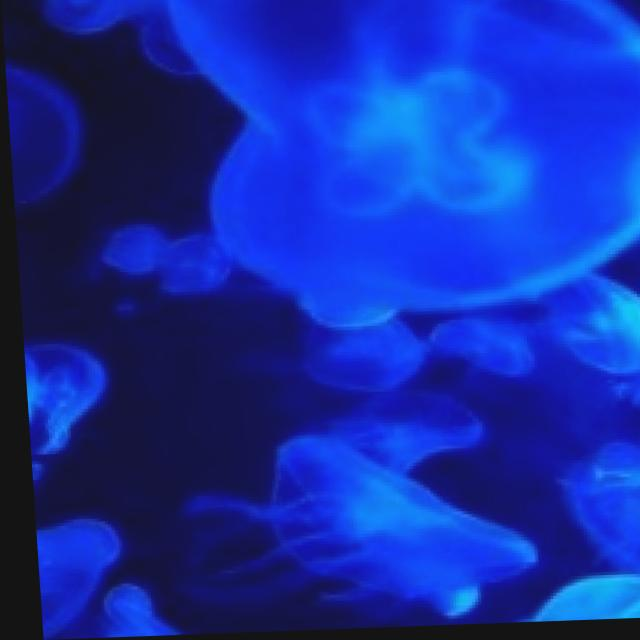Moon-jellyfish: (220, 0, 640, 330)
